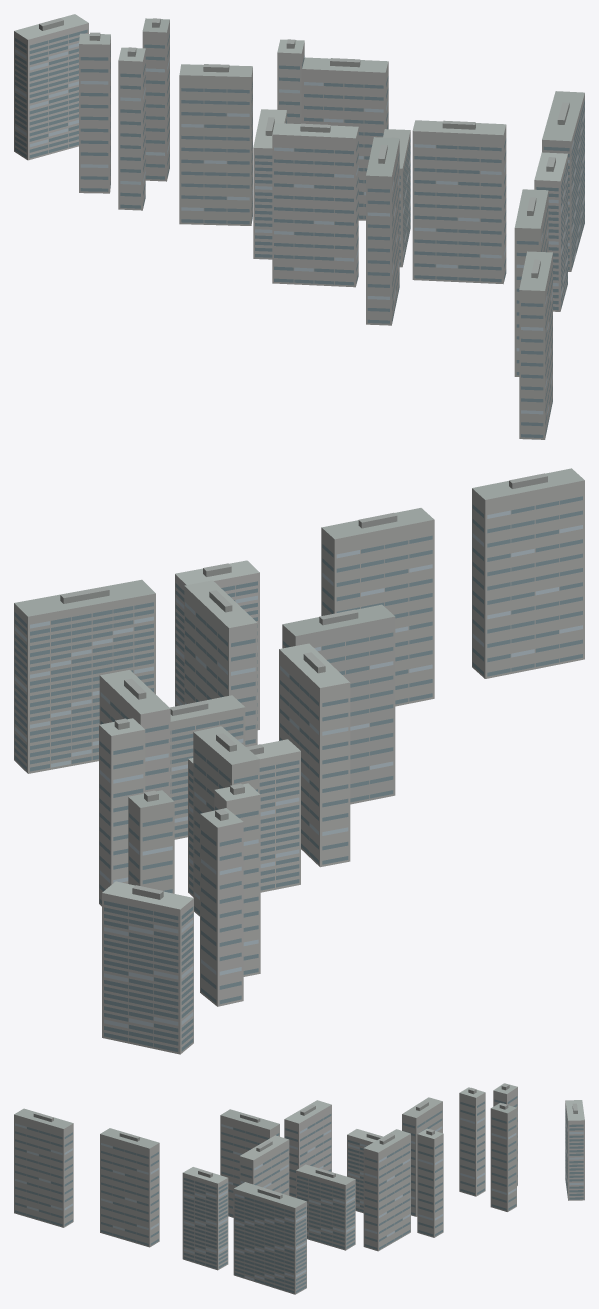
File: apt-a13082704.glb
3 renders of one model, top to bottom at view 1: azimuth 30°, elevation 25°; view 2: azimuth 150°, elevation 25°; view 3: azimuth 270°, elevation 25°, orthographic. The views are drawn at different scales.
Parts seen in each view (by area): view 1: apt-a13082704; view 2: apt-a13082704; view 3: apt-a13082704.
Boxes of the visible parts, x1,y1,x2,y2 form: apt-a13082704: (14, 14, 584, 439); apt-a13082704: (14, 468, 584, 1054); apt-a13082704: (14, 1083, 584, 1294).
Bounding box in the file's own units: 183 × 76 × 385.
